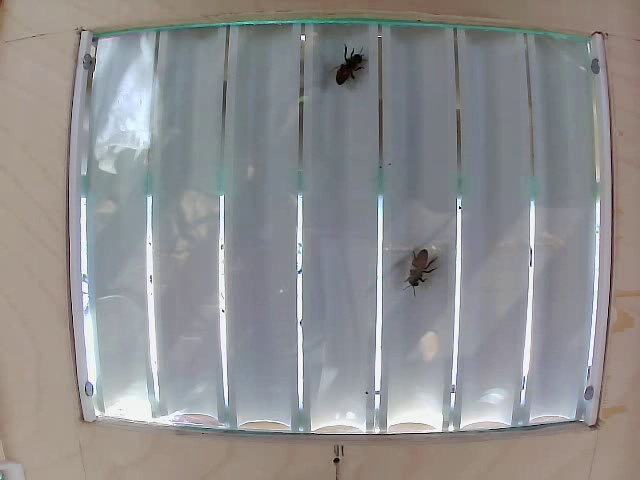bee: (390, 238, 432, 279), (338, 51, 372, 99)
